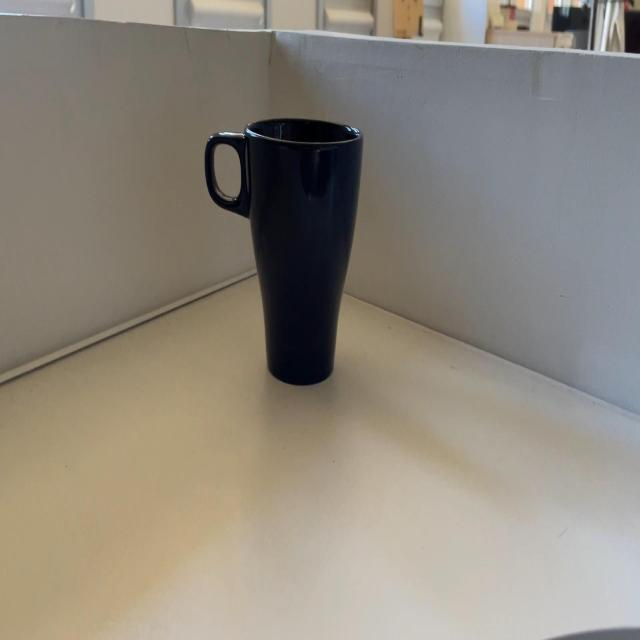cup: (218, 116, 368, 394)
